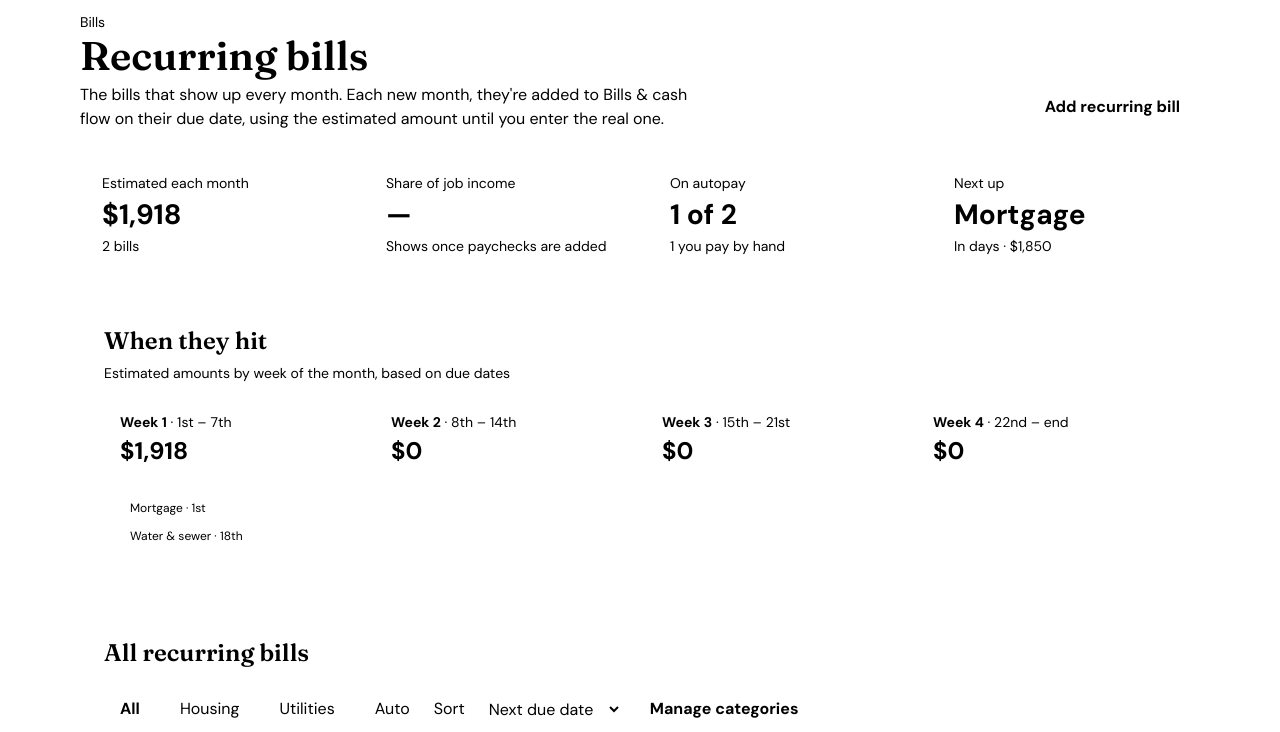
P2-08 Recurring bills page › adds a bill
Check: the heading "Recurring bills" is shown, box [80,31,368,80]
Click the button "Add recurring bill" at (1112, 107), box [1025,83,1200,131]
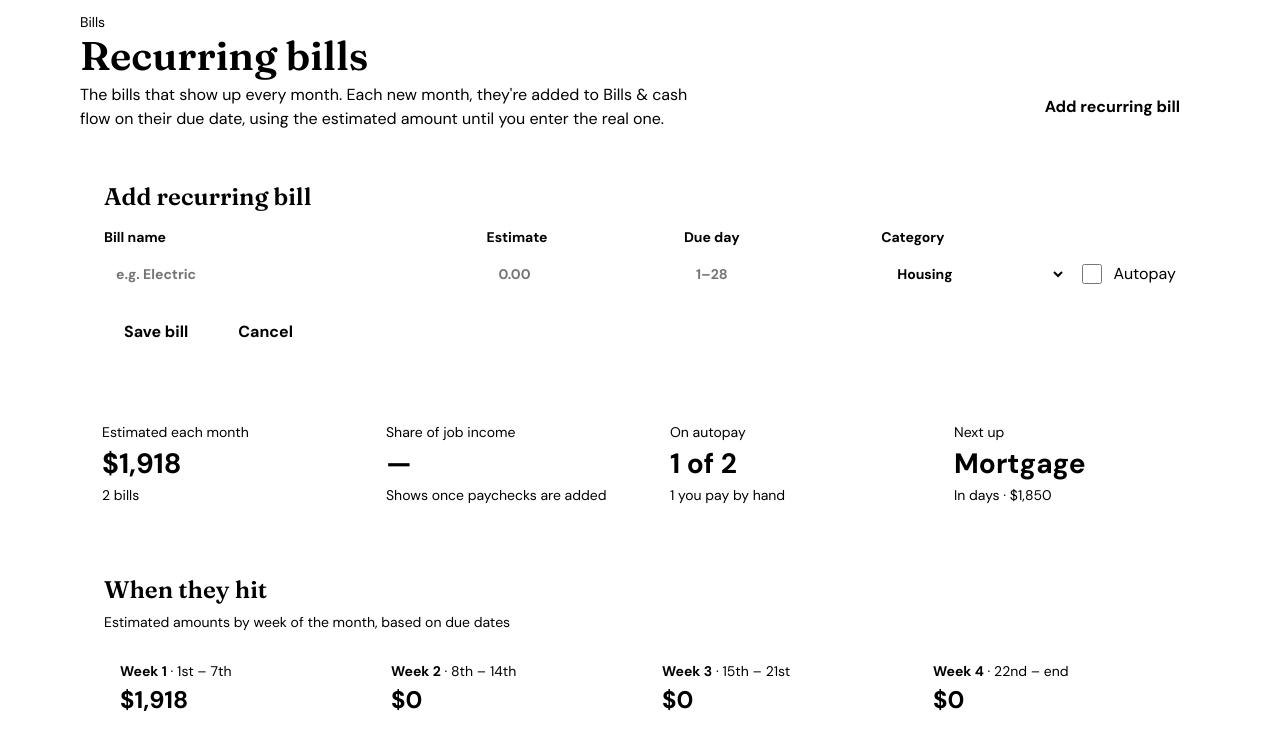
Type "Internet" into the field labelled "Bill name" at (289, 274), box [104,252,475,296]
Type "80" into the field labelled "Estimate" at (583, 274), box [487,252,679,296]
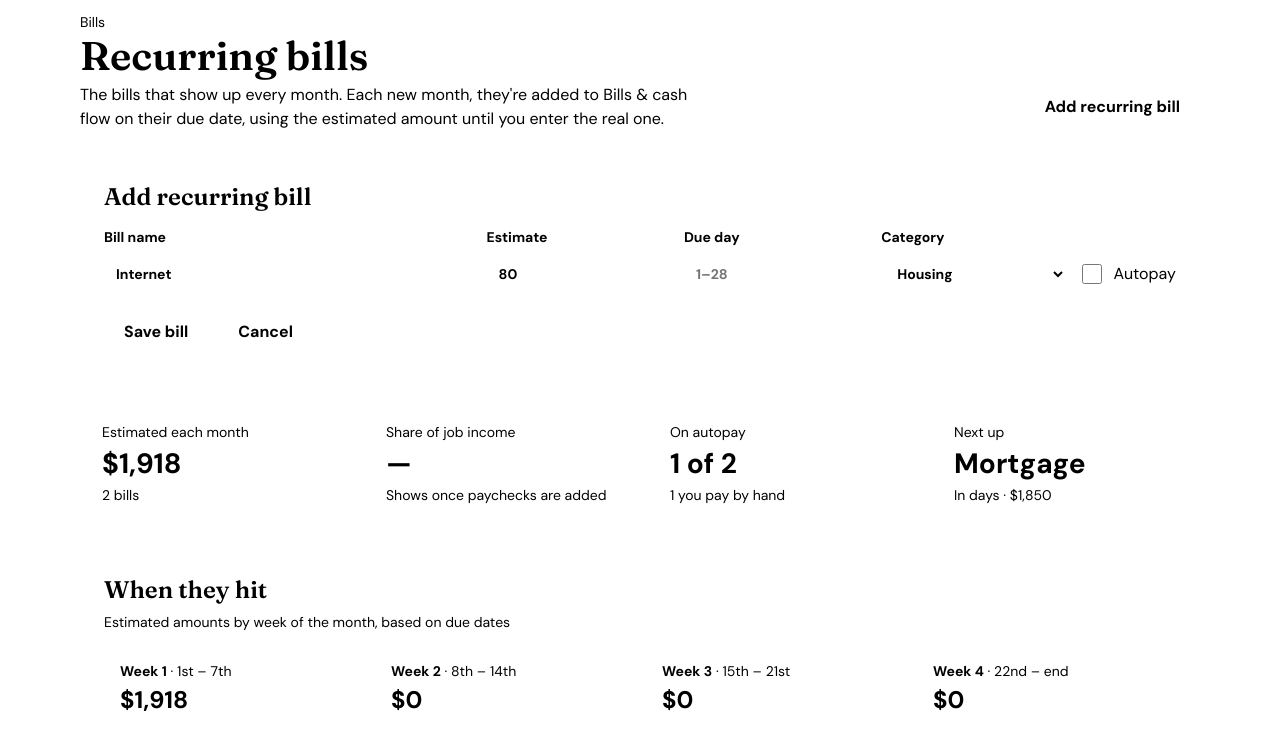
Type "10" into the field labelled "Due day" at (780, 274), box [684,252,876,296]
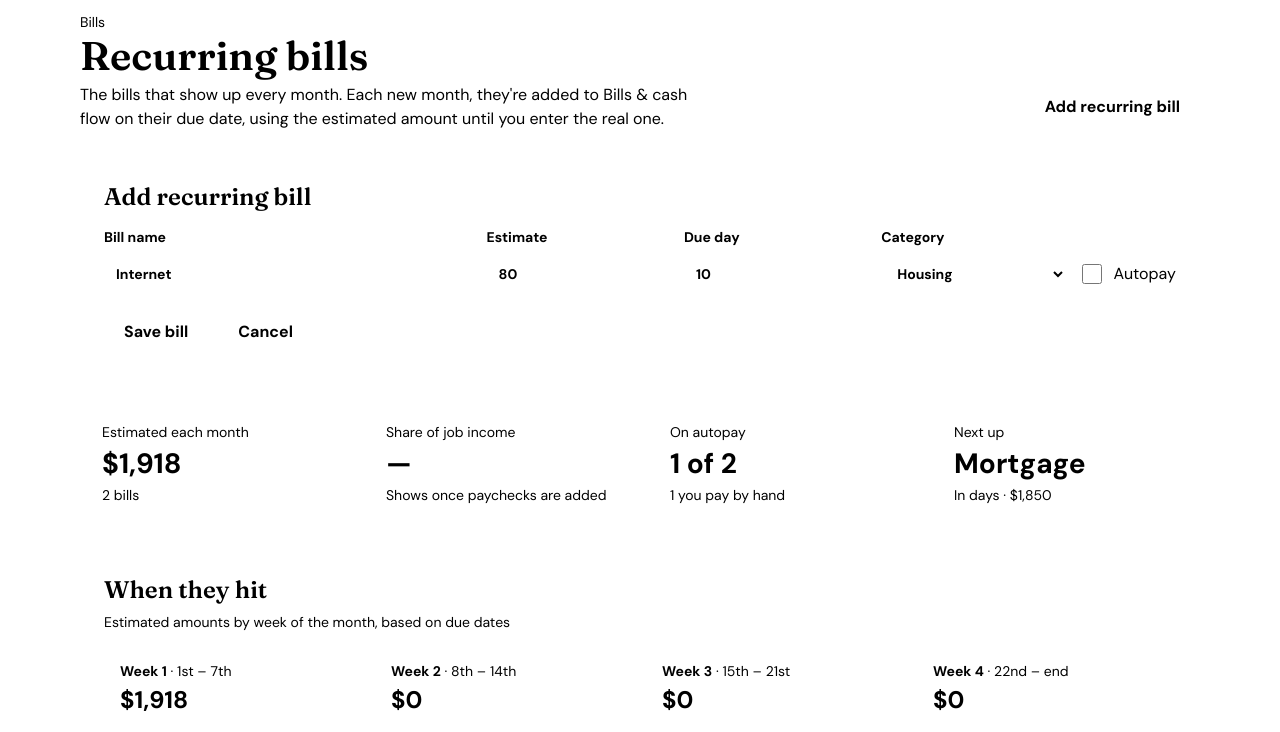
Select "Utilities" in the dropdown labelled "Category" at (974, 274), box [881,252,1066,296]
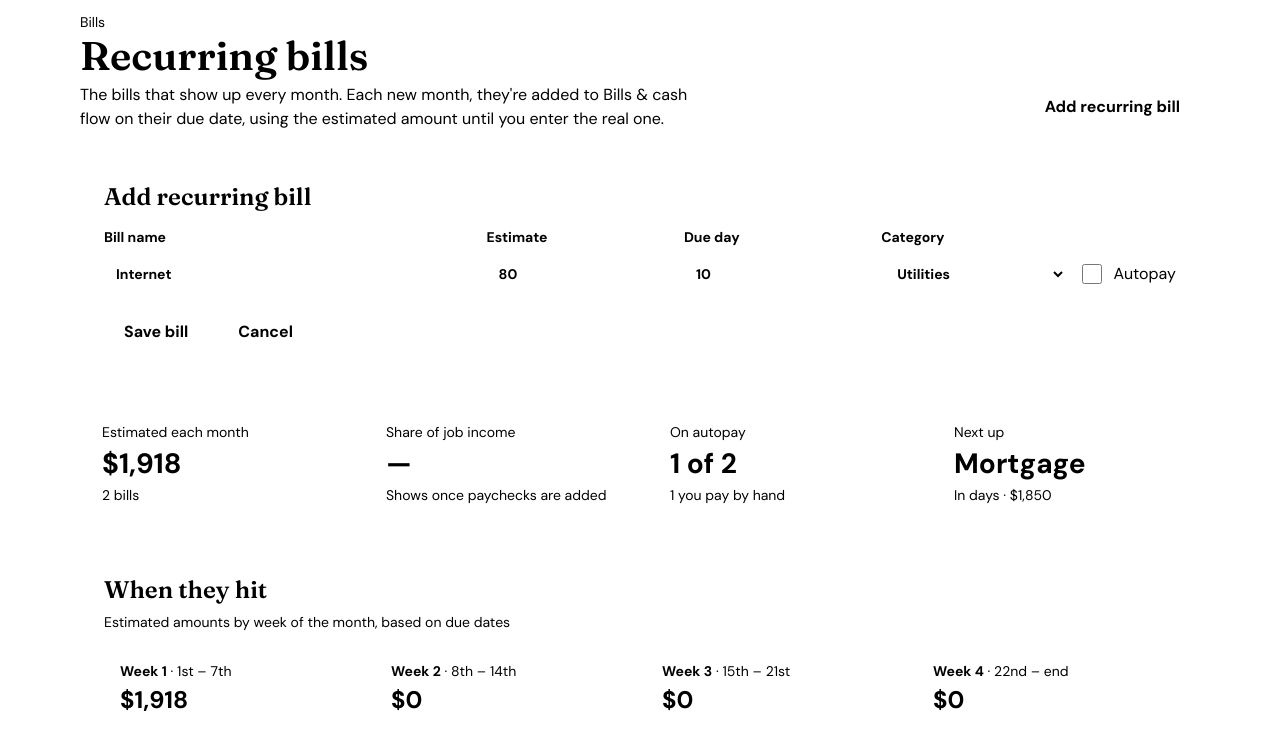
Click the checkbox labelled "Autopay" at (1092, 274), box [1082,264,1102,284]
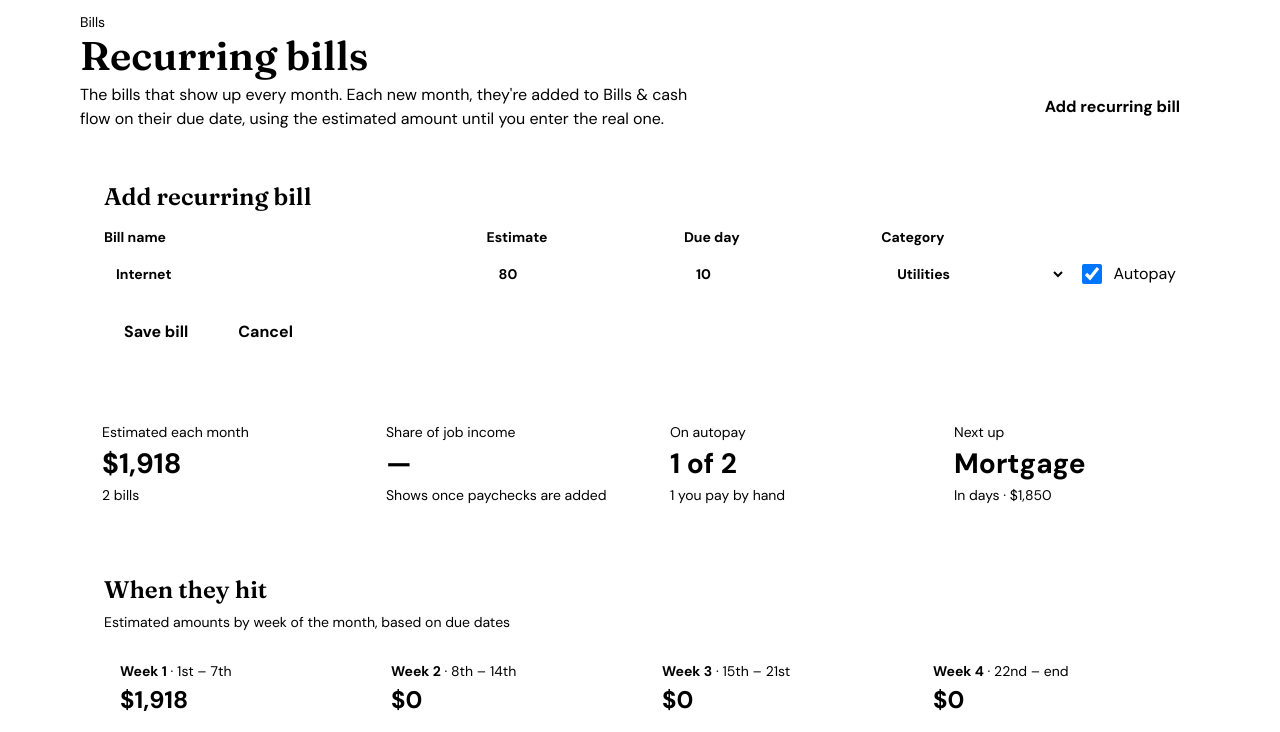
Click the button "Save bill" at (156, 332), box [104,308,208,356]
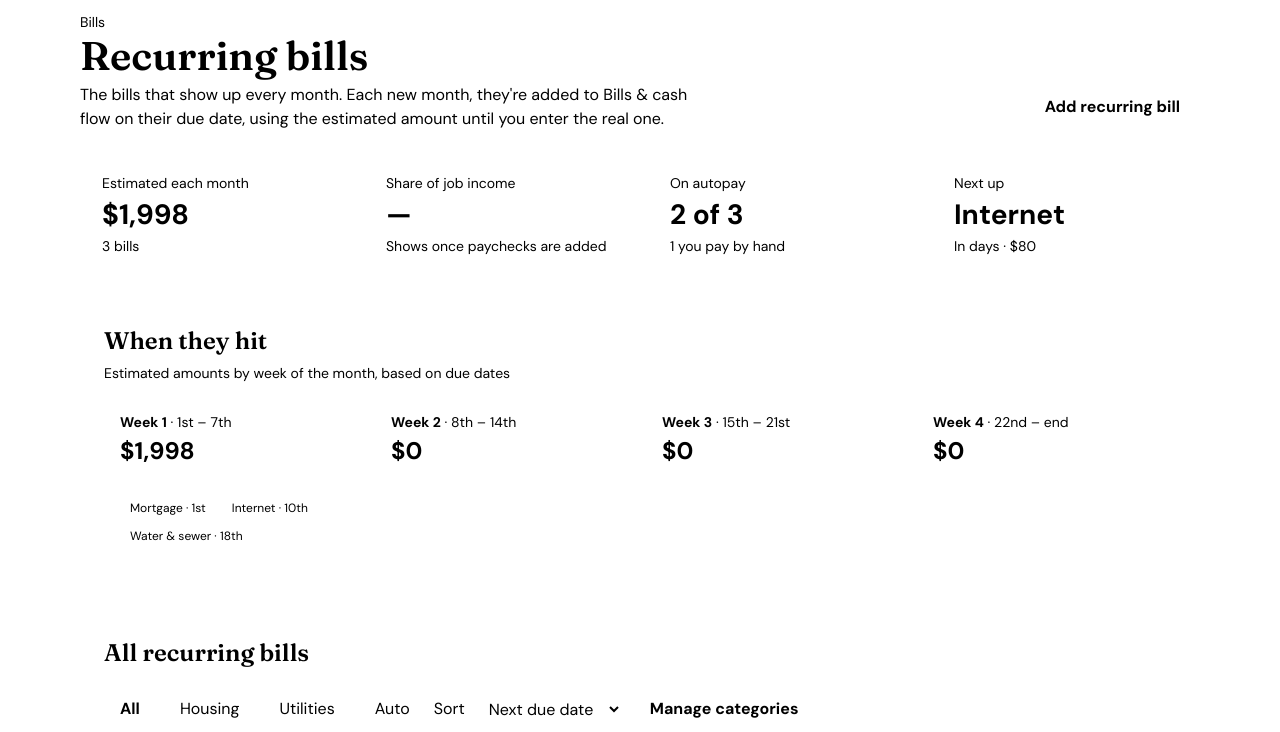
Check: the form is gone
